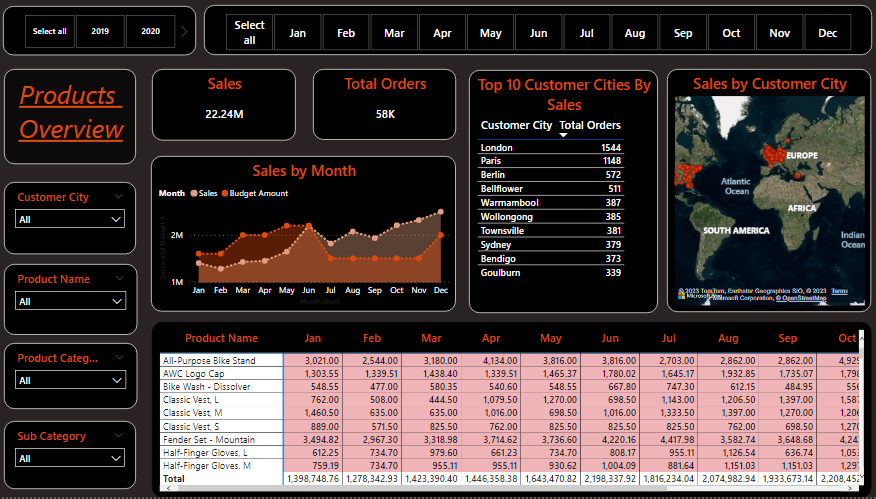

The page's visual inventory and layout, read from the dashboard file:
{"tool":"powerbi","page":{"name":"Products Overview","canvas":[1280,720],"ordinal":2},"visuals":[{"type":"tableEx","title":"Top 10 Customer Cities By Sales","fields":{"Values":["DIM_Customer.Customer City","Key Measures.ProductSales"]},"box":[685,104.9,271.8,349.7],"z":0},{"type":"slicer","fields":{"Values":["DIM_Products (2).Sub Category"]},"box":[15.8,610.6,190.1,97.9],"z":1000},{"type":"slicer","fields":{"Values":["DIM_Products (2).Product Category"]},"box":[15.8,498.2,191.5,95],"z":2000},{"type":"slicer","fields":{"Values":["DIM_Customer.Customer City"]},"box":[15.8,266.4,190.1,103.7],"z":3000},{"type":"slicer","fields":{"Values":["DIM_Products (2).Product Name"]},"box":[15.8,384.5,191.5,102.2],"z":4000},{"type":"slicer","fields":{"Values":["Dim_Date_Excel.Year"]},"box":[14.4,13,277.9,70.6],"z":5000},{"type":"slicer","fields":{"Values":["Dim_Date_Excel.MonthShort"]},"box":[303.8,11.5,961.9,72],"z":6000},{"type":"textbox","box":[15.8,103.7,190.1,136.8],"z":7000},{"type":"areaChart","title":"Sales by Month","fields":{"Y":["Key Measures.Sales","Key Measures.Budget Amount"],"Category":["Dim_Date_Excel.MonthShort"]},"box":[227.3,228.9,438.7,224.1],"z":8000},{"type":"card","title":"Sales","fields":{"Values":["Key Measures.Sales"]},"box":[228.9,103.3,206.6,103.3],"z":9000},{"type":"pivotTable","fields":{"Rows":["DIM_Products (2).Product Name"],"Values":["Key Measures.Sales"],"Columns":["Dim_Date_Excel.MonthShort"]},"box":[228.9,467.3,1036.3,252.7],"z":11000},{"type":"map","fields":{"Category":["DIM_Customer.Customer City"],"Size":["Key Measures.Sales"]},"box":[970.6,103.7,295.2,349.9],"z":12000},{"type":"card","title":"Total Orders","fields":{"Values":["Key Measures.ProductSales"]},"box":[460.8,103.7,205.9,102.2],"z":14000}]}

Visuals, with their boxes in screenshot pixels (x1, y1, x2, y2), scaled from the page's 1280x720 canvas onto the 876x499 screenshot:
"Top 10 Customer Cities By Sales" tableEx: {"left": 469, "top": 73, "right": 655, "bottom": 315}
slicer - DIM_Products (2).Sub Category: {"left": 11, "top": 423, "right": 141, "bottom": 491}
slicer - DIM_Products (2).Product Category: {"left": 11, "top": 345, "right": 142, "bottom": 411}
slicer - DIM_Customer.Customer City: {"left": 11, "top": 185, "right": 141, "bottom": 256}
slicer - DIM_Products (2).Product Name: {"left": 11, "top": 266, "right": 142, "bottom": 337}
slicer - Dim_Date_Excel.Year: {"left": 10, "top": 9, "right": 200, "bottom": 58}
slicer - Dim_Date_Excel.MonthShort: {"left": 208, "top": 8, "right": 866, "bottom": 58}
textbox: {"left": 11, "top": 72, "right": 141, "bottom": 167}
"Sales by Month" areaChart: {"left": 156, "top": 159, "right": 456, "bottom": 314}
"Sales" card: {"left": 157, "top": 72, "right": 298, "bottom": 143}
pivotTable - DIM_Products (2).Product Name x Key Measures.Sales: {"left": 157, "top": 324, "right": 866, "bottom": 498}
map - DIM_Customer.Customer City x Key Measures.Sales: {"left": 664, "top": 72, "right": 866, "bottom": 314}
"Total Orders" card: {"left": 315, "top": 72, "right": 456, "bottom": 143}
